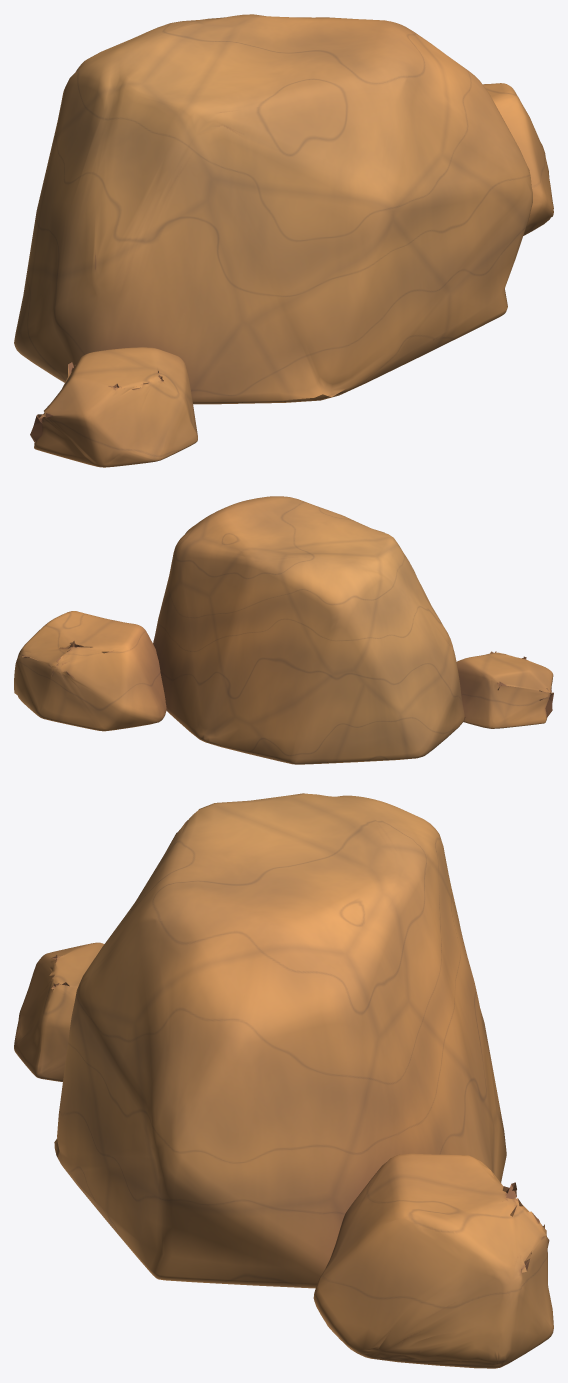
The model's file is SD_P03_Rock_Set_B.fbx.
3 views of the same model, one above another, from view 1: azimuth 30°, elevation 25°; view 2: azimuth 150°, elevation 25°; view 3: azimuth 270°, elevation 25° (orthographic). The views are drawn at different scales.
Parts seen in each view (by area): view 1: Rock_B; view 2: Rock_B; view 3: Rock_B.
Boxes of the visible parts, box(x1,y1,x2,y2) form: Rock_B: box(14, 14, 553, 467); Rock_B: box(14, 496, 553, 764); Rock_B: box(14, 793, 553, 1368).
Size of the model in its own units: 1.51 by 0.61 by 0.92.
